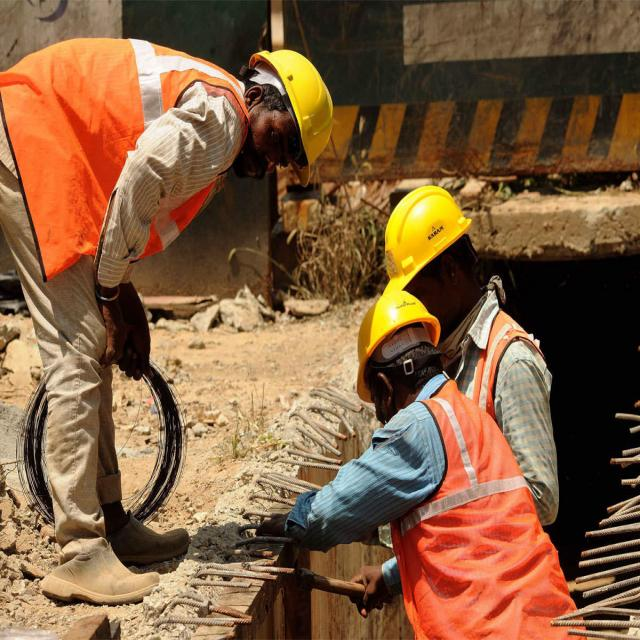Reflective-Jacket: (3, 36, 244, 280), (388, 330, 568, 639)
Safety-Helmet: (251, 44, 336, 184), (381, 183, 474, 286), (353, 285, 442, 375)
